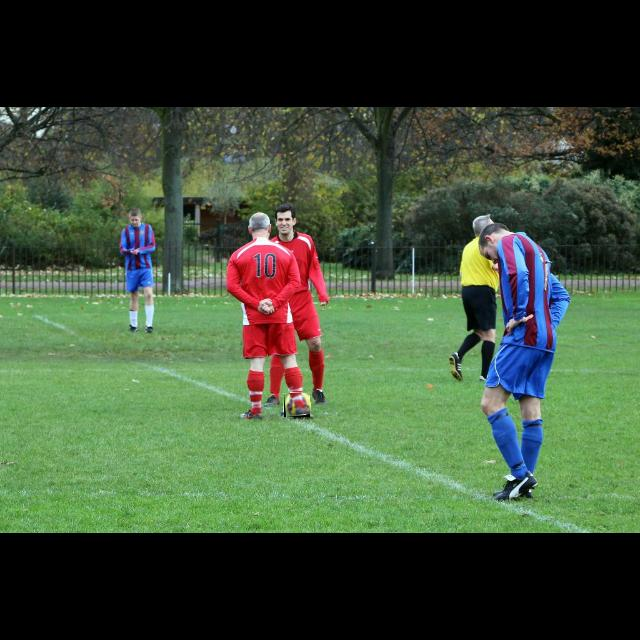Football: (284, 393, 310, 417)
